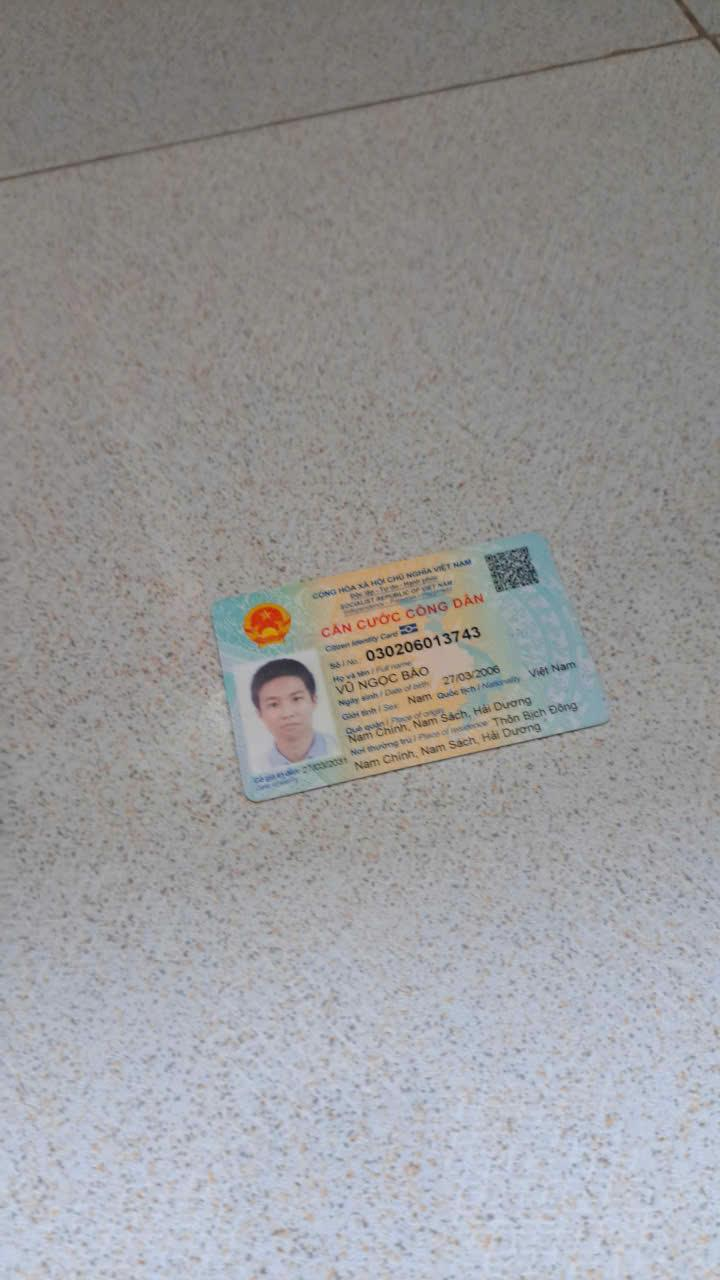cccd: (198, 518, 618, 811)
